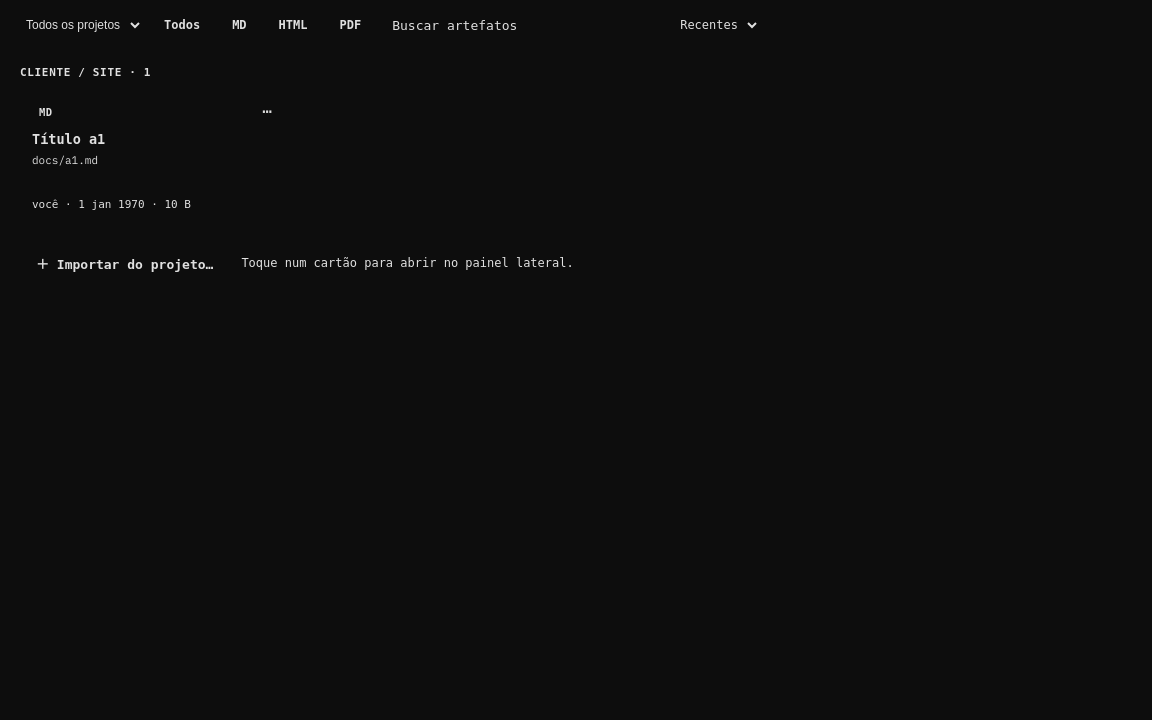
Test: Importar do projeto › "Selecionar todos", troca de projeto e aviso de lista cortada
Click the button "＋ Importar do projeto…" at (125, 263), box [20,243,229,283]
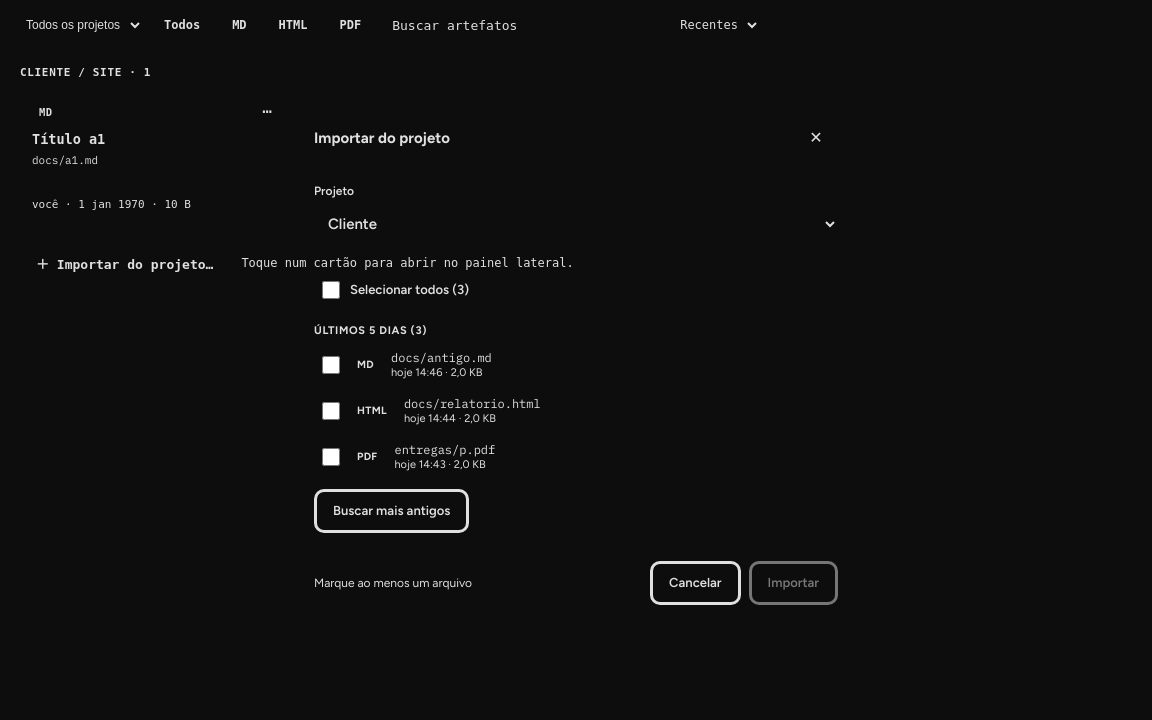
Result: the dropdown shows "Cliente" at [314,204,838,244]
Click the text "Selecionar todos (3)" at (410, 290), box [350,282,469,297]
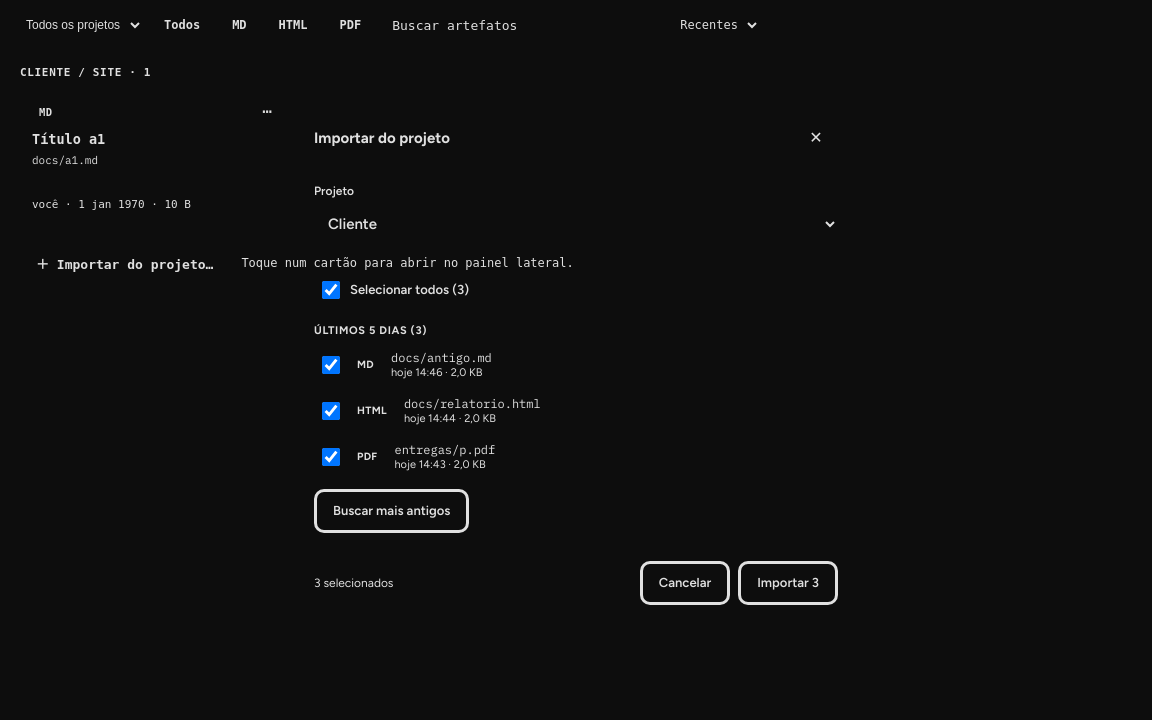
Result: the button "Importar 3" is shown at [738,560,838,604]
Select "Cliente / api" in the dropdown at (576, 224), box [314,204,838,244]
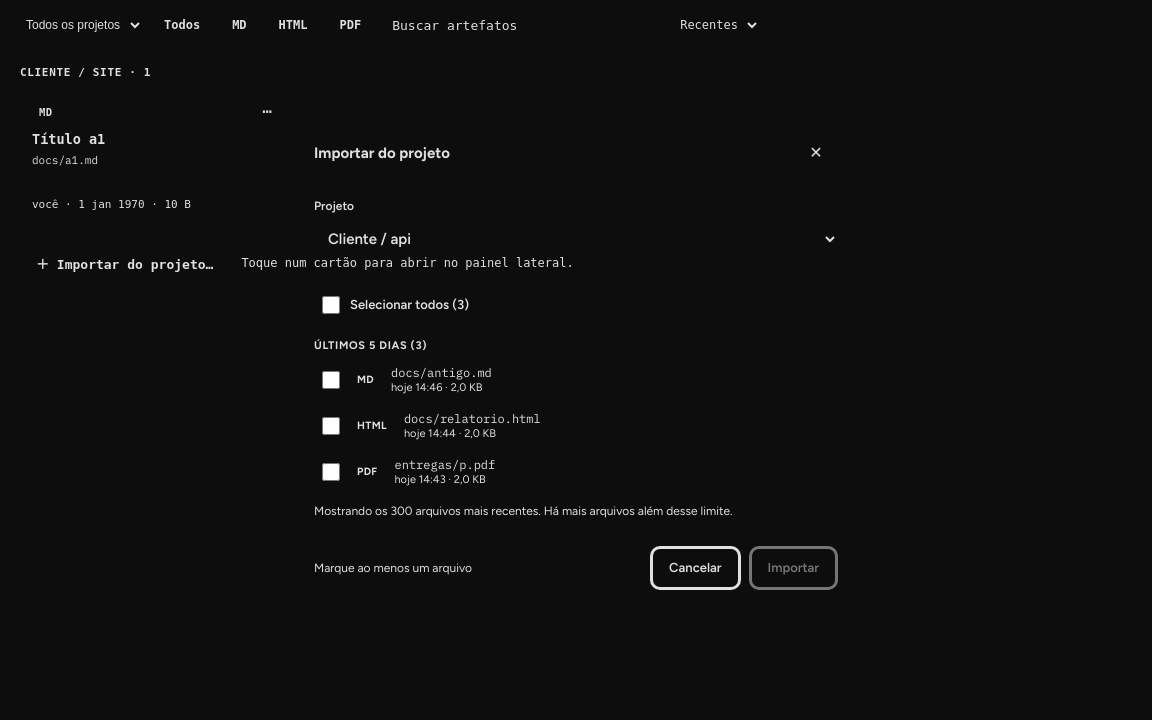
Result: the text "Mostrando os 300 arquivos mais recentes. Há mais arquivos além desse limite." is shown at [314,504,732,518]
Result: the button "Importar" is disabled at [748,546,838,590]
